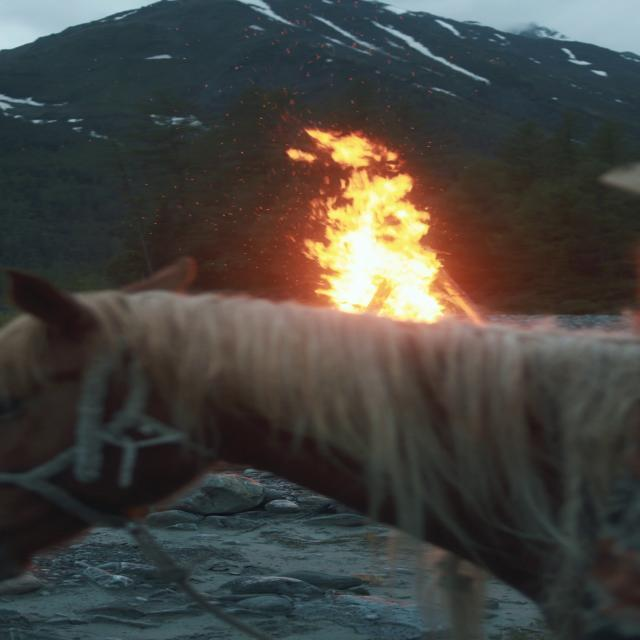Fire: (294, 129, 460, 319)
